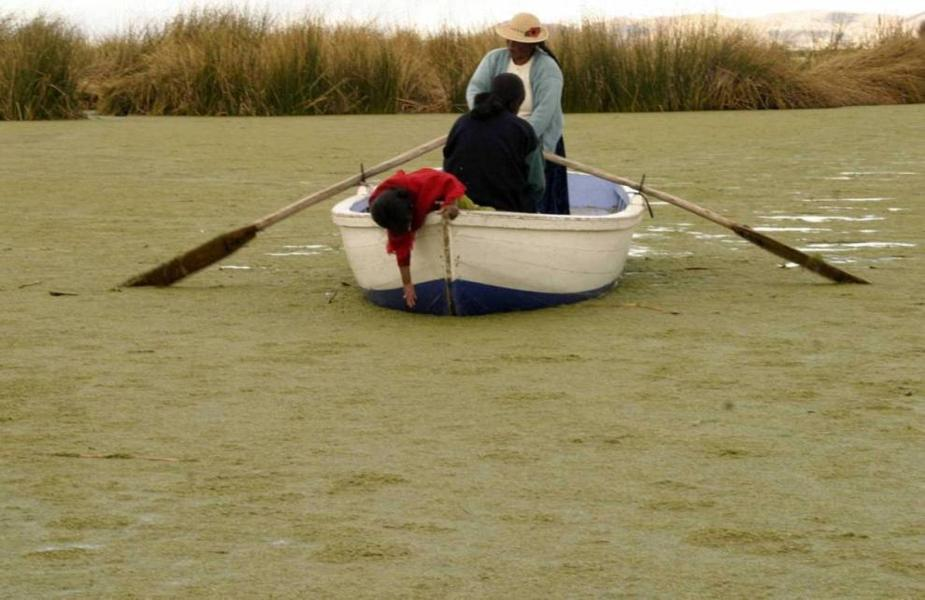person: (465, 14, 568, 158)
